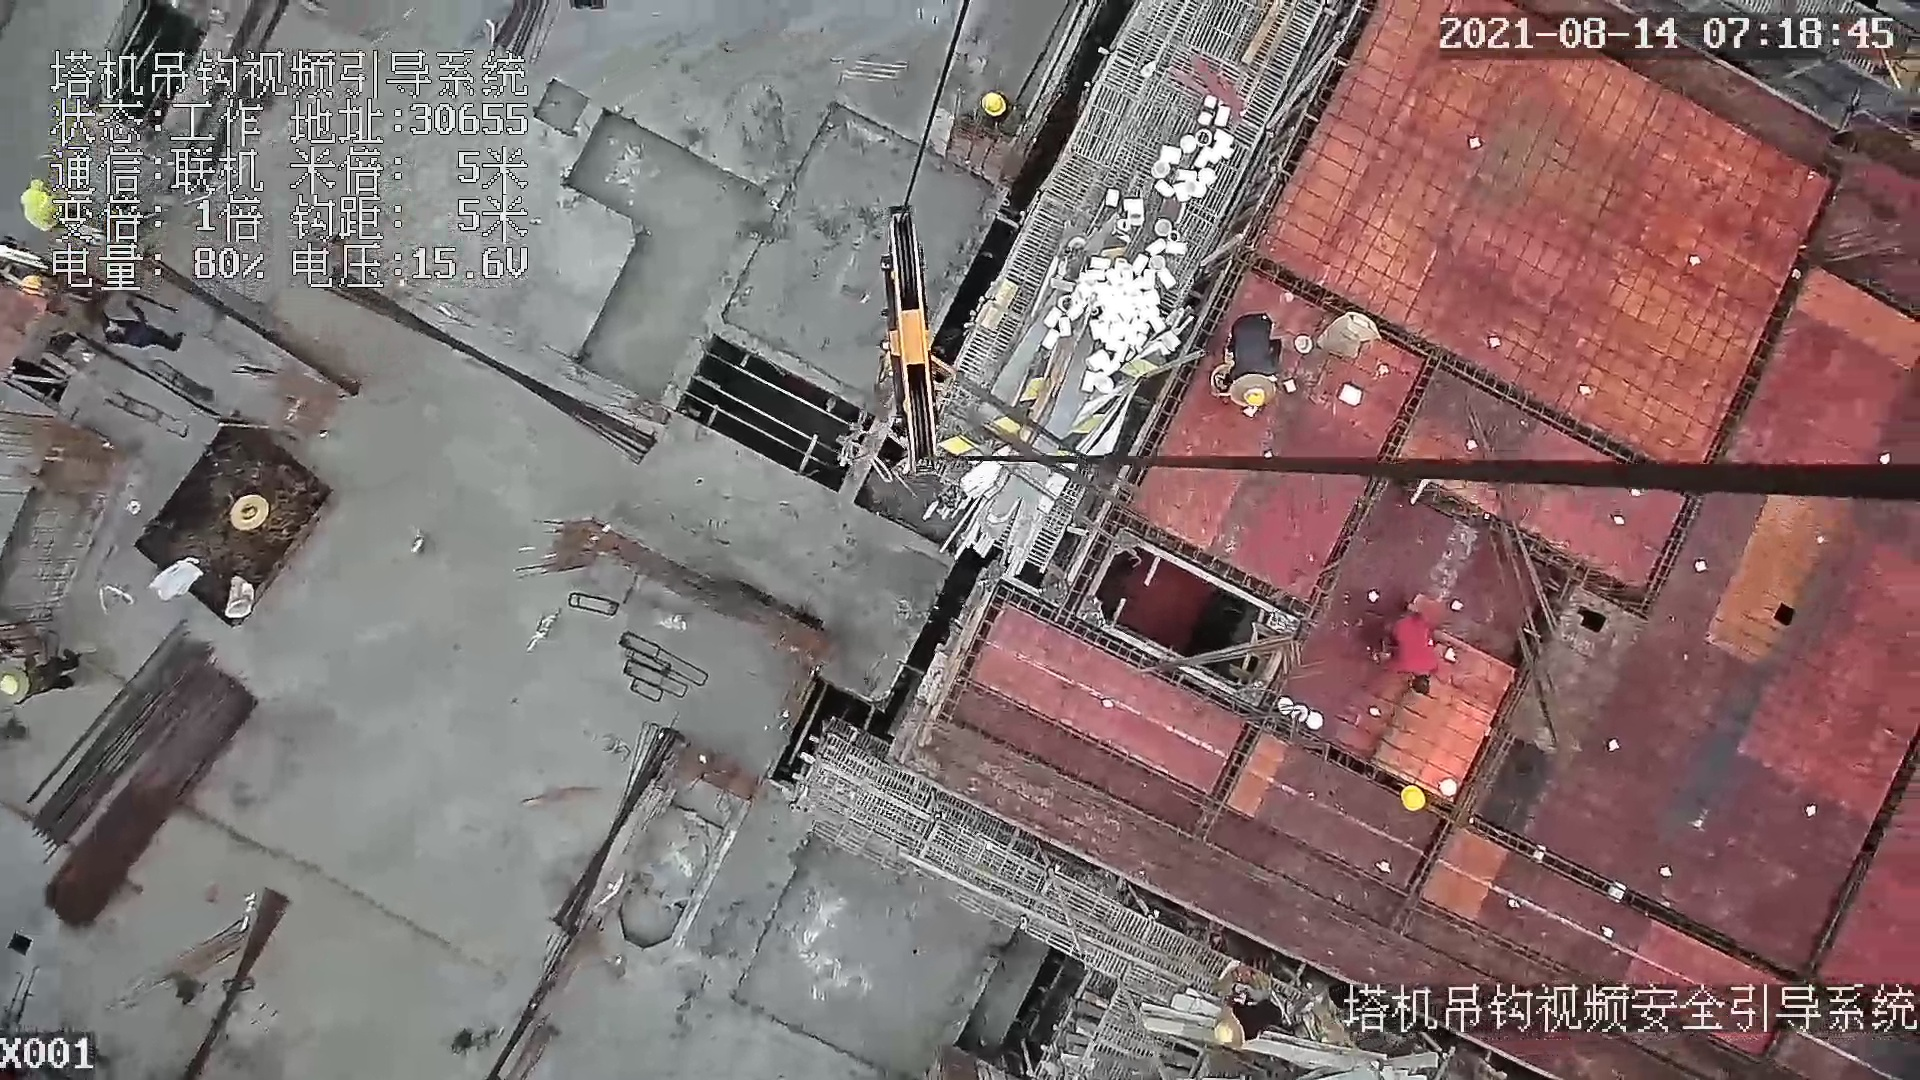helmet: (1400, 790, 1428, 820), (1241, 383, 1267, 411), (980, 90, 1003, 116)
hook: (872, 203, 960, 474)
person: (1217, 313, 1282, 410), (1381, 601, 1437, 700), (981, 94, 1029, 139)
